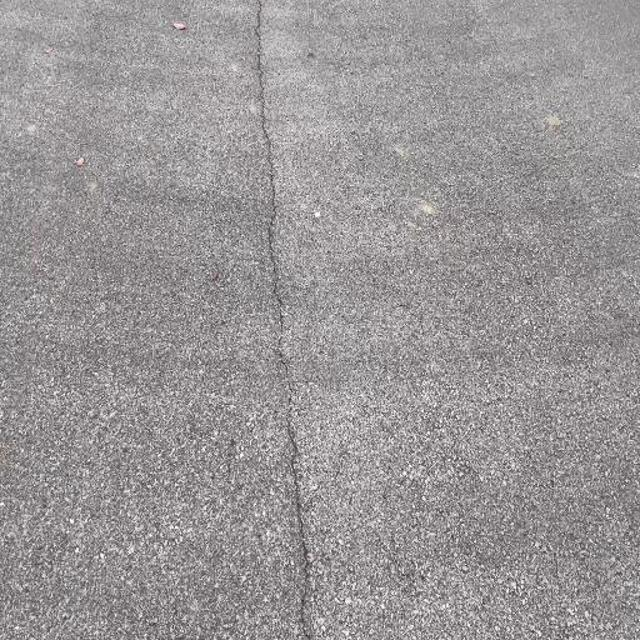Memanjang: (224, 1, 334, 640)
